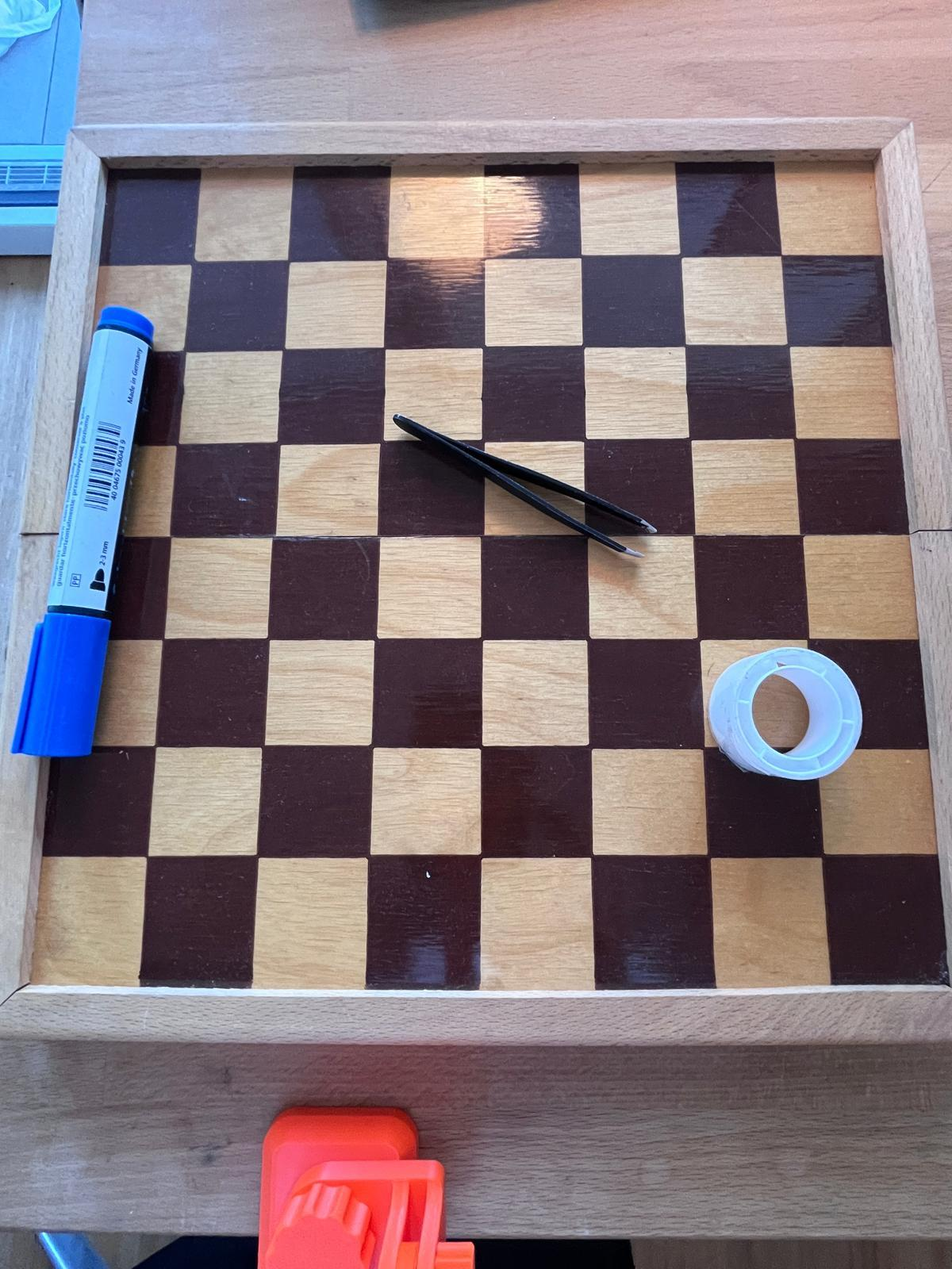marker: (6, 303, 159, 755)
tape: (704, 641, 873, 796)
tweezer: (386, 408, 662, 558)
